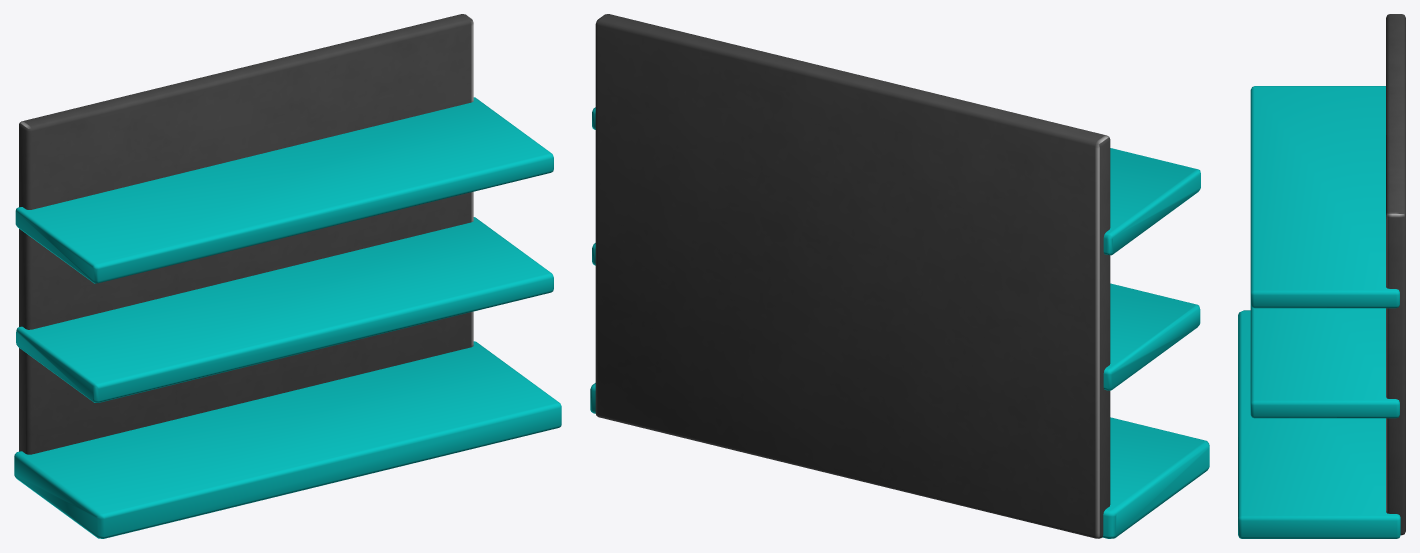
File: Scaffale.fbx
The picture shows the model from 3 angles, left to right: view 1: azimuth 30°, elevation 25°; view 2: azimuth 150°, elevation 25°; view 3: azimuth 270°, elevation 25°; orthographic projection. The views are drawn at different scales.
Visible parts, largest first — view 1: RepartoEmpty; view 2: RepartoEmpty; view 3: RepartoEmpty.
Boxes of the visible parts, left/top/right/bottom form: RepartoEmpty: left=14, top=14, right=561, bottom=538; RepartoEmpty: left=590, top=14, right=1209, bottom=538; RepartoEmpty: left=1238, top=14, right=1405, bottom=538.
Size of the model in its own units: 392 by 284 by 134.
